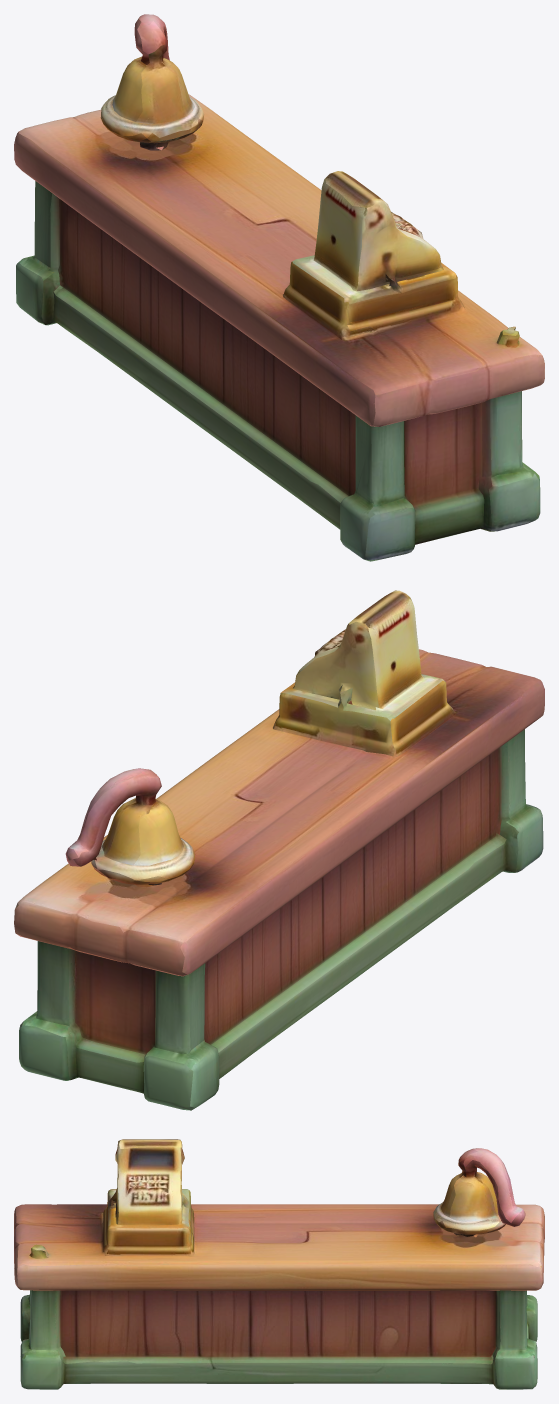
Rendered from counter.glb.
3 views of the same model, one above another, from view 1: azimuth 30°, elevation 25°; view 2: azimuth 150°, elevation 25°; view 3: azimuth 270°, elevation 25° (orthographic). The views are drawn at different scales.
Parts seen in each view (by area): view 1: counter_s15; view 2: counter_s15; view 3: counter_s15.
Part boxes in pixels (bbox=[...]): counter_s15: bbox=[14, 14, 544, 561]; counter_s15: bbox=[14, 590, 544, 1110]; counter_s15: bbox=[14, 1139, 544, 1389].
Bounding box in the file's own units: 0.2829 × 0.4518 × 1.
1 material, 1 textured.
